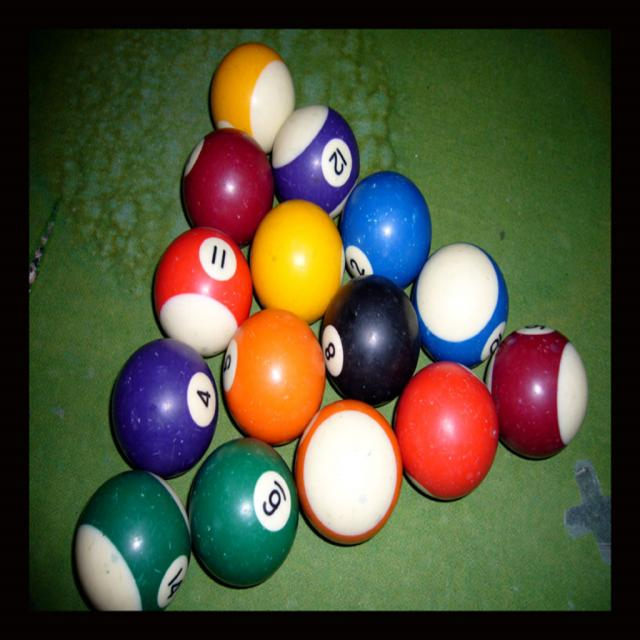Ball: (75, 43, 588, 609)
Billiard table: (64, 29, 618, 618)
